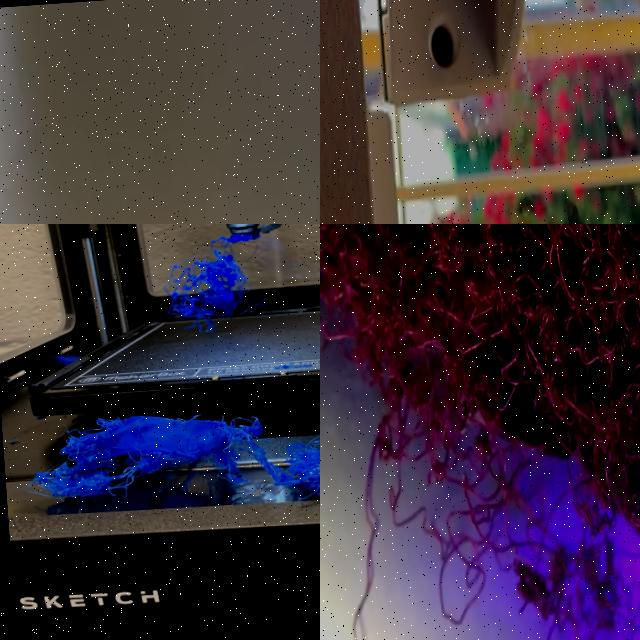spaghetti: (320, 224, 640, 640), (27, 415, 320, 504), (163, 232, 265, 320), (55, 355, 77, 366)
